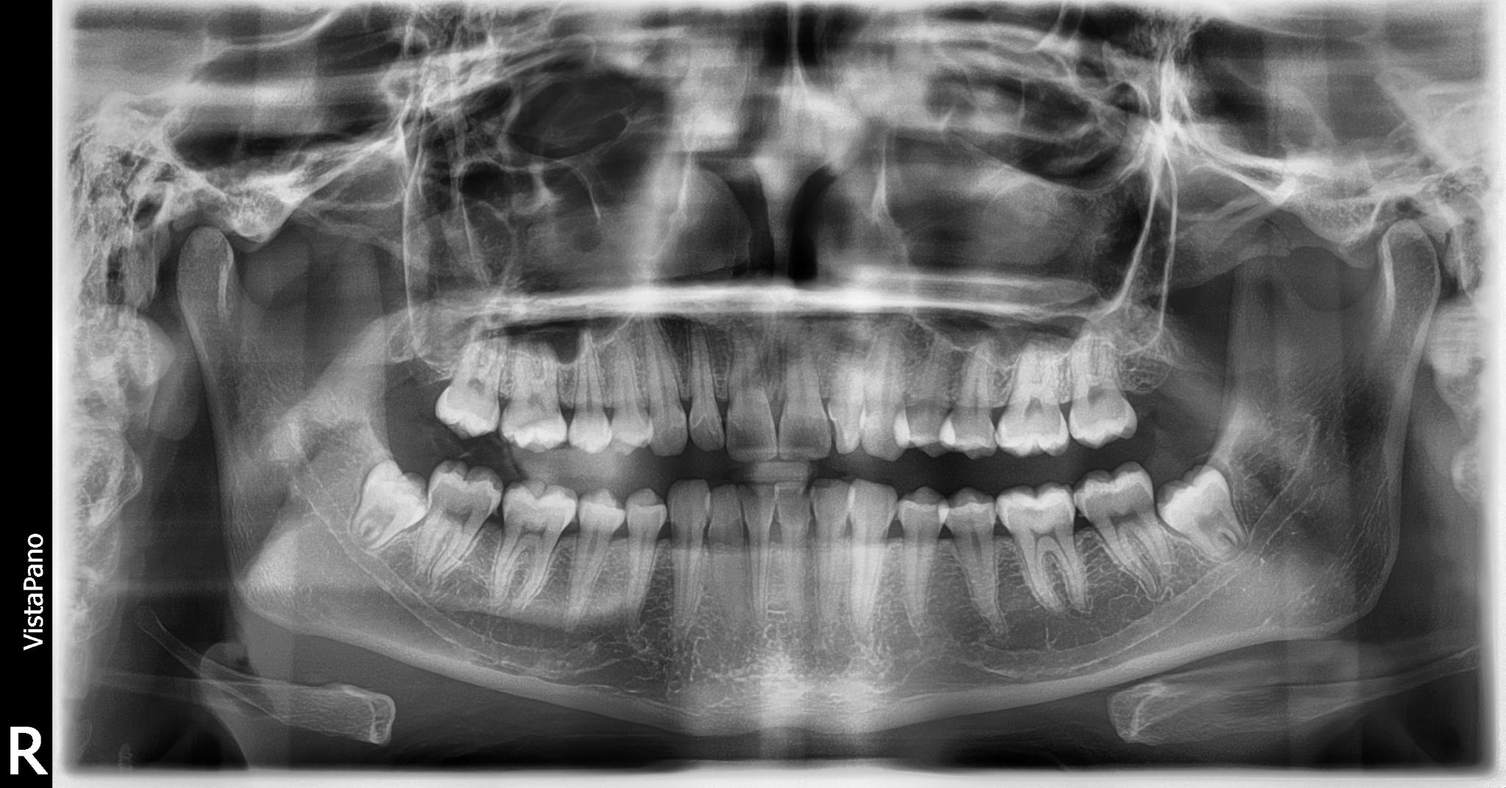Premolars: (487, 231, 1488, 764), (572, 237, 1506, 757), (219, 206, 642, 708), (167, 298, 585, 788)
